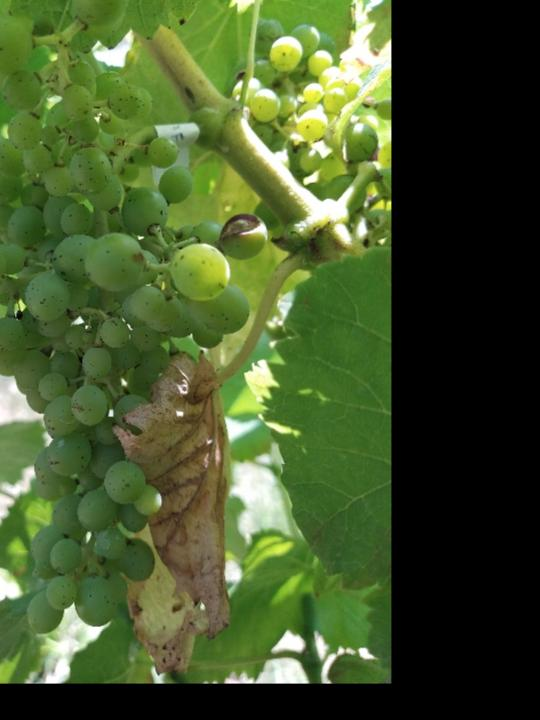grape: (0, 0, 272, 639)
